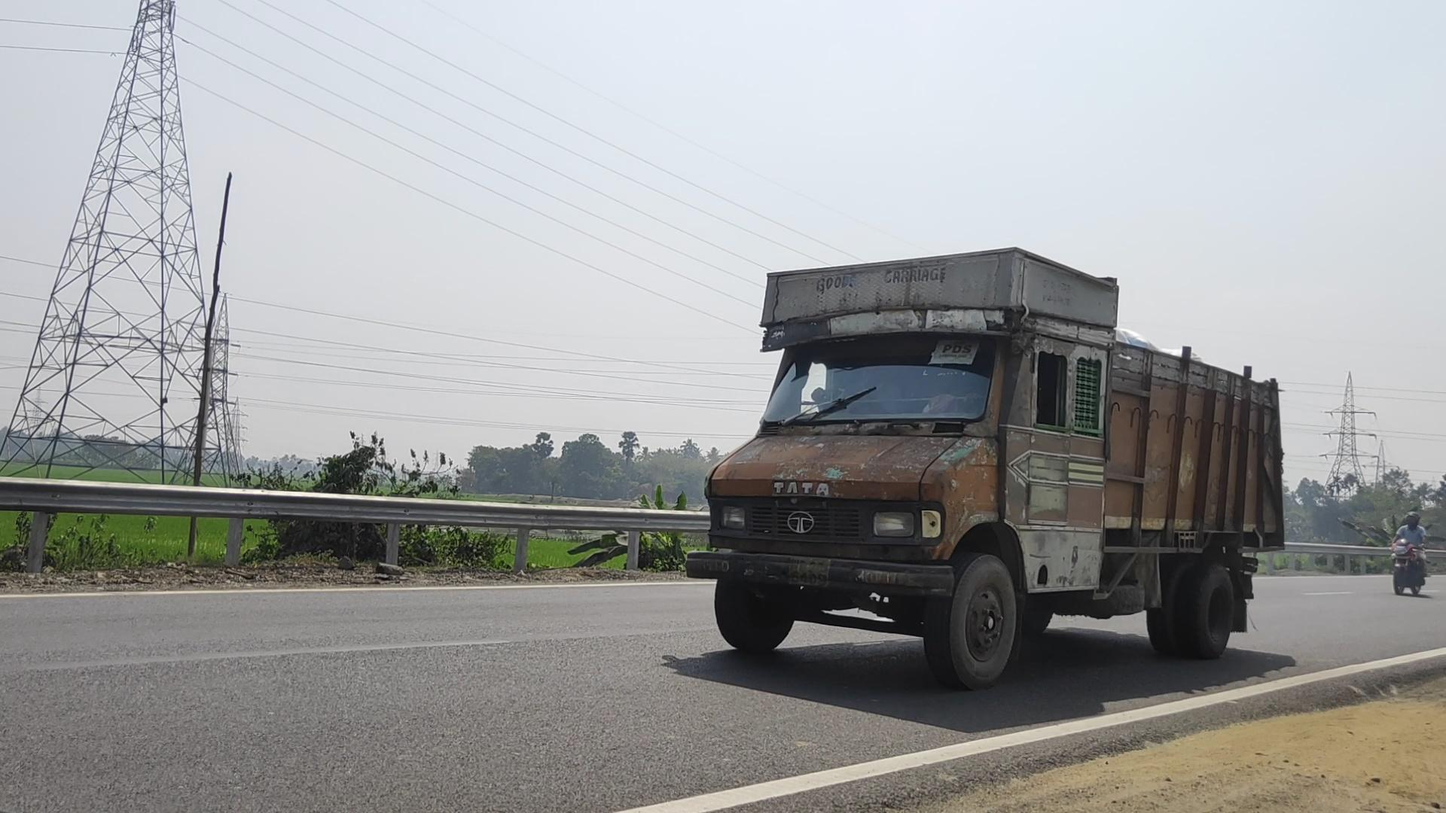bike: (1390, 512, 1430, 596)
truck: (685, 246, 1287, 693)
